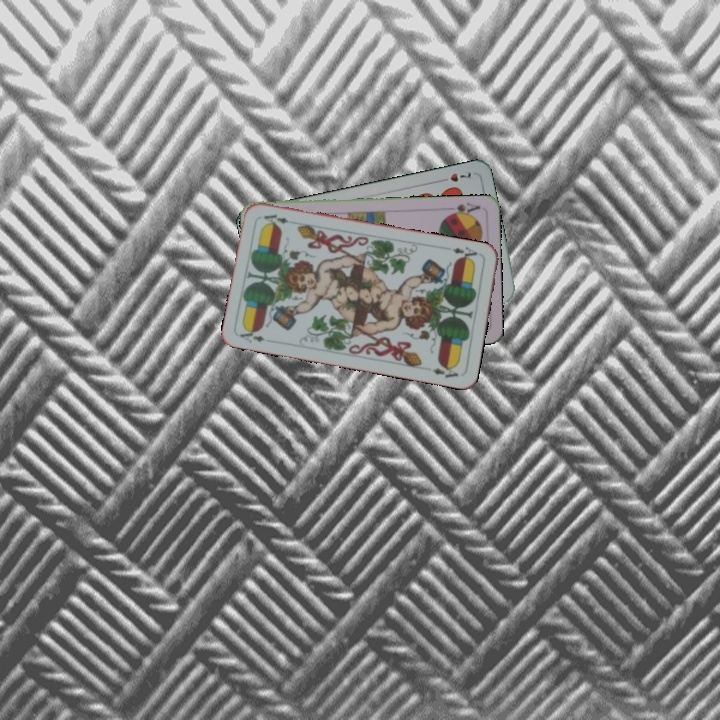EA: (448, 243, 484, 264), (236, 325, 267, 346)
H7: (435, 167, 474, 185)
SA: (443, 199, 482, 219)
